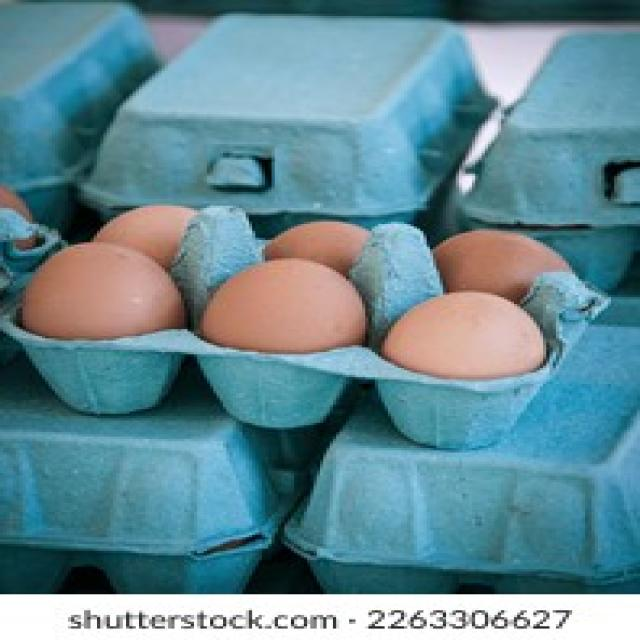Brown Egg: (201, 248, 373, 358), (12, 239, 189, 342), (378, 285, 548, 380), (430, 225, 582, 302), (81, 200, 204, 261), (259, 221, 374, 271)
